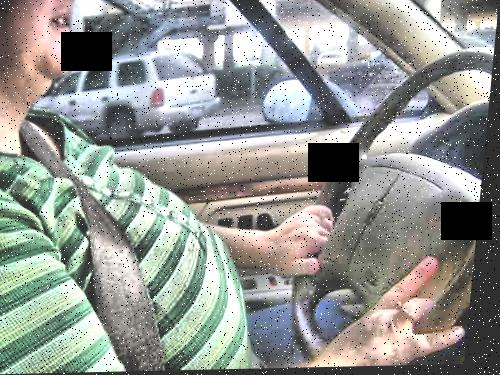seatbelt: (3, 111, 206, 374)
